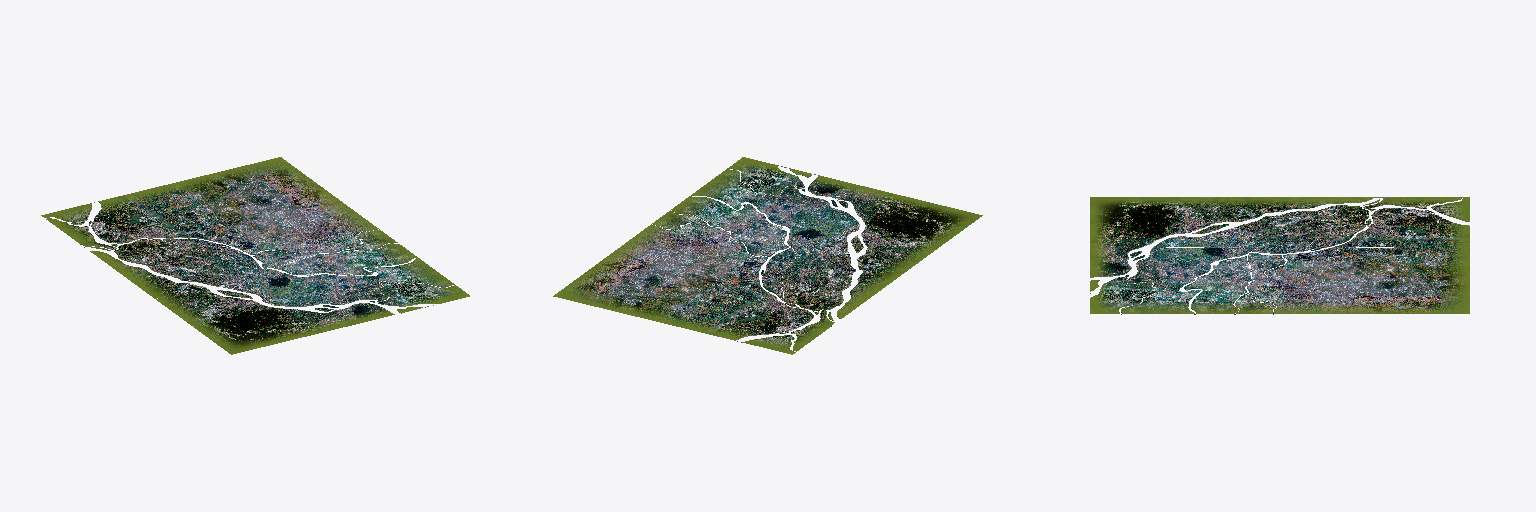
3 views of the same model, side by side, from view 1: azimuth 30°, elevation 25°; view 2: azimuth 150°, elevation 25°; view 3: azimuth 270°, elevation 25° (orthographic).
Parts seen in each view (by area): view 1: Plane011, Plane004, Plane006, Plane017, Plane020, Plane026, Plane065, Plane070, Plane003, Plane007, Plane005, Plane019 (+28 smaller); view 2: Plane026, Plane034, Plane018, Plane025, Plane012, Plane010, Plane009, Plane063, Plane052, Plane003, Plane006, Plane005 (+28 smaller); view 3: Plane003, Plane006, Plane005, Plane018, Plane019, Plane025, Plane026, Plane033, Plane012, Plane011, Plane009, Plane008 (+28 smaller).
Boxes of the visible parts, x1,y1,x2,y2 form: Plane011: [198, 188, 249, 209]; Plane004: [144, 182, 195, 203]; Plane006: [213, 165, 264, 186]; Plane017: [182, 210, 234, 231]; Plane020: [285, 185, 337, 206]; Plane026: [269, 207, 321, 228]; Plane065: [281, 316, 333, 337]; Plane070: [213, 333, 265, 354]; Plane003: [110, 190, 161, 212]; Plane007: [247, 157, 298, 178]; Plane005: [179, 174, 230, 195]; Plane019: [250, 193, 302, 214]; Plane026: [645, 249, 696, 270]; Plane034: [629, 227, 681, 248]; Plane018: [660, 271, 711, 292]; Plane025: [679, 257, 730, 279]; Plane012: [606, 277, 658, 298]; Plane010: [675, 294, 726, 315]; Plane009: [709, 302, 761, 323]; Plane063: [911, 221, 963, 242]; Plane052: [789, 210, 841, 231]; Plane003: [690, 316, 742, 337]; Plane006: [587, 291, 639, 312]; Plane005: [622, 299, 674, 320]; Plane003: [1432, 231, 1469, 247]; Plane006: [1432, 281, 1469, 297]; Plane005: [1432, 264, 1469, 280]; Plane018: [1356, 264, 1393, 280]; Plane019: [1356, 281, 1393, 297]; Plane025: [1318, 264, 1355, 280]; Plane026: [1318, 281, 1355, 297]; Plane033: [1280, 281, 1317, 297]; Plane012: [1394, 281, 1431, 297]; Plane011: [1394, 264, 1431, 280]; Plane009: [1394, 231, 1431, 247]; Plane008: [1394, 214, 1431, 230].
Size of the model in its own units: 44954 by 51.25 by 61823.
71 materials, 70 textured.